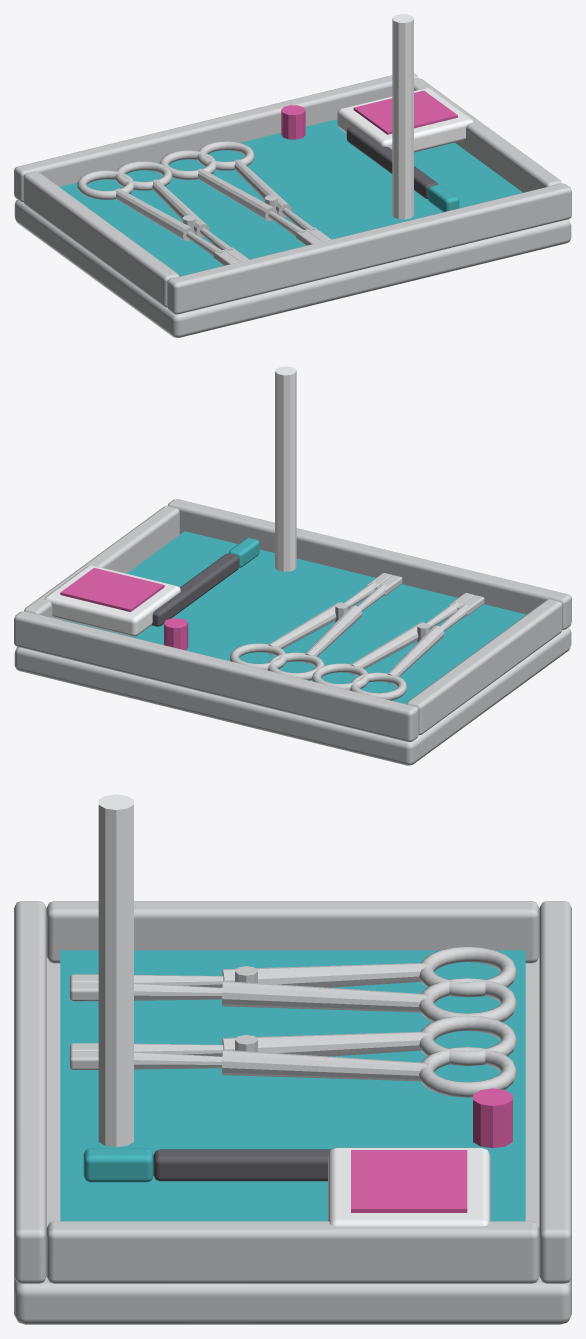
The model's file is instrument-tray-set.glb.
The picture shows the model from 3 angles, top to bottom: view 1: azimuth 30°, elevation 25°; view 2: azimuth 150°, elevation 25°; view 3: azimuth 270°, elevation 25°; orthographic projection. The views are drawn at different scales.
Visible parts, largest first — view 1: instrument-tray-set; view 2: instrument-tray-set; view 3: instrument-tray-set.
Part boxes in pixels (x1,y1,x2,y2): instrument-tray-set: [14, 14, 571, 337]; instrument-tray-set: [14, 366, 571, 765]; instrument-tray-set: [14, 794, 571, 1324].
Size of the model in its own units: 0.34 by 0.194 by 0.24.
